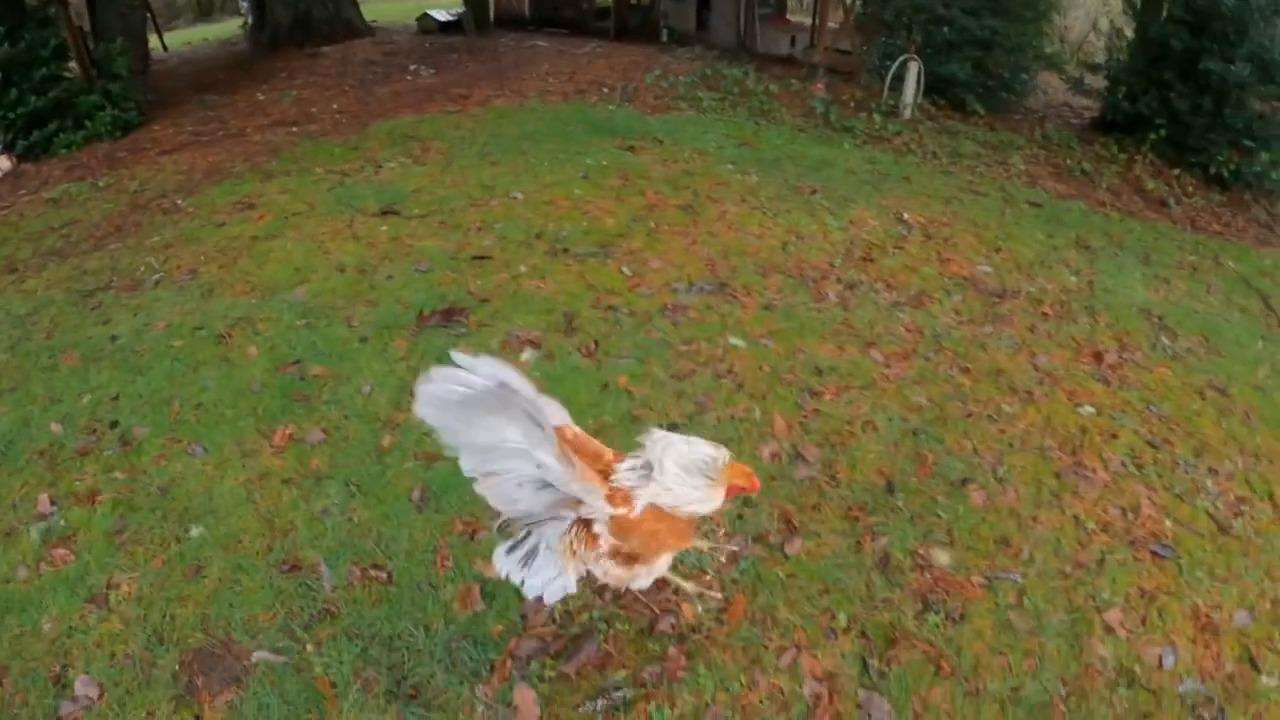Normal: (424, 326, 758, 648)
